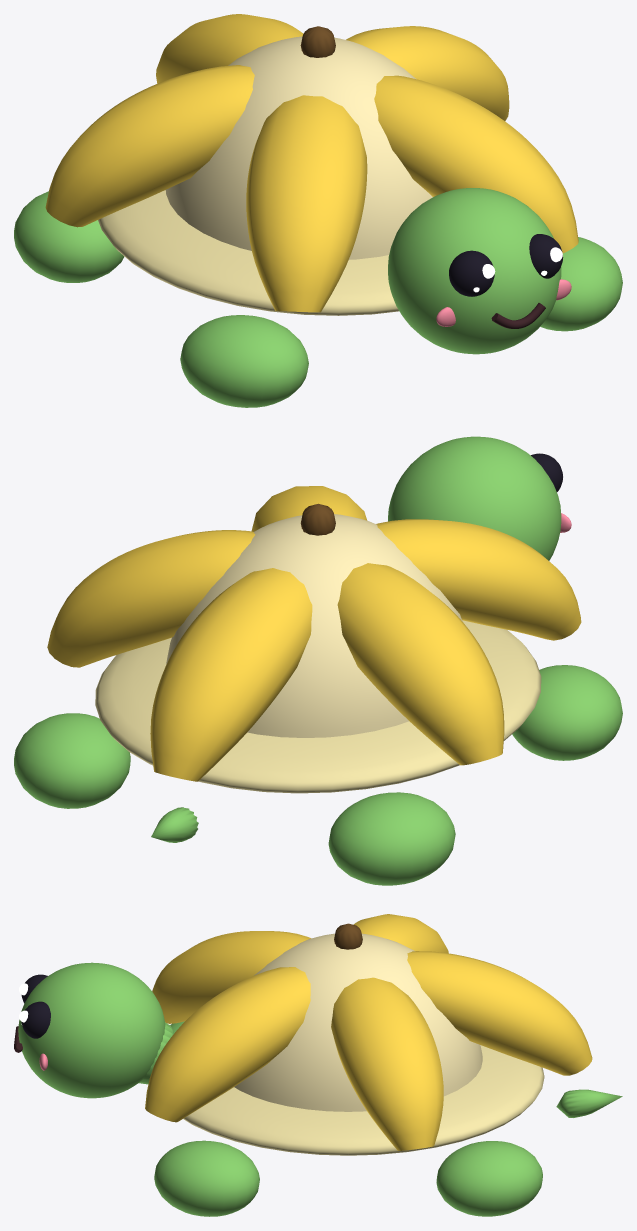
Rendered from pilot_skilpadde_banan.glb.
3 renders of one model, top to bottom at view 1: azimuth 30°, elevation 25°; view 2: azimuth 150°, elevation 25°; view 3: azimuth 270°, elevation 25°, orthographic. The views are drawn at different scales.
Visible parts, largest first — view 1: kropp, hode, bein_vf, bein_vb, bein_hf; view 2: kropp, hode, bein_vb, bein_hb, bein_vf, hale; view 3: kropp, hode, bein_hb, bein_hf, hale.
Part boxes in pixels (left/top/right/bottom): kropp: left=45, top=14, right=578, bottom=315; hode: left=388, top=188, right=571, bottom=354; bein_vf: left=180, top=315, right=308, bottom=407; bein_vb: left=14, top=191, right=124, bottom=282; bein_hf: left=540, top=237, right=622, bottom=331; kropp: left=47, top=486, right=581, bottom=793; hode: left=388, top=436, right=571, bottom=560; bein_vb: left=328, top=792, right=455, bottom=885; bein_hb: left=14, top=713, right=130, bottom=808; bein_vf: left=512, top=665, right=622, bottom=760; hale: left=151, top=807, right=198, bottom=842; kropp: left=145, top=914, right=592, bottom=1155; hode: left=14, top=962, right=173, bottom=1098; bein_hb: left=436, top=1141, right=542, bottom=1216; bein_hf: left=154, top=1140, right=259, bottom=1216; hale: left=556, top=1089, right=622, bottom=1117.
Size of the model in its own units: 1.34 by 0.7685 by 1.9.
